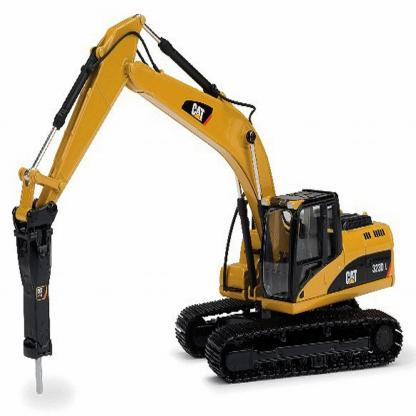excavator: (17, 9, 408, 381)
